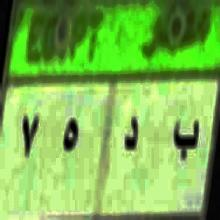5: (61, 116, 80, 161)
7: (21, 110, 40, 166)
baa: (172, 113, 200, 170)
daal: (121, 110, 140, 165)
